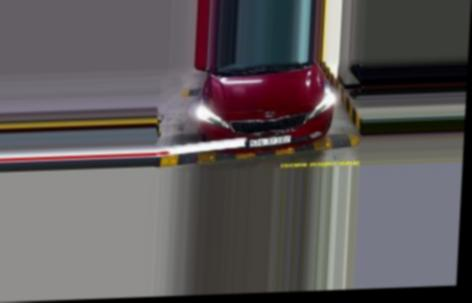License_Plate: (248, 134, 291, 149)
